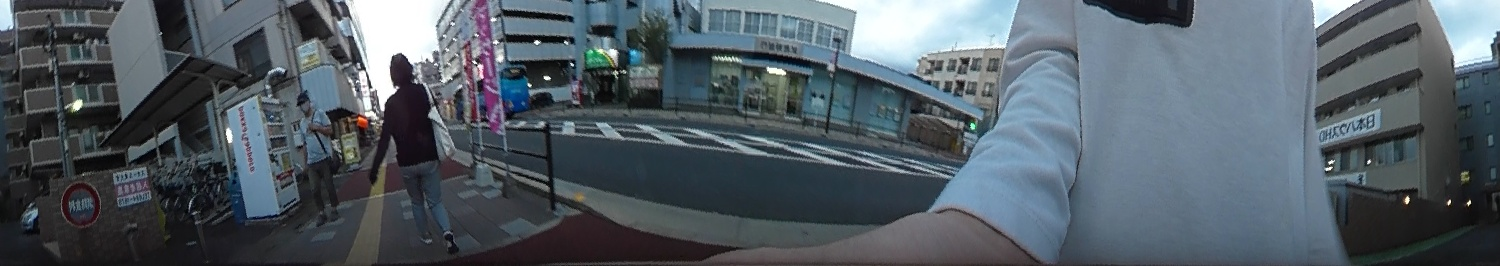person: (366, 46, 469, 257), (288, 84, 344, 222)
